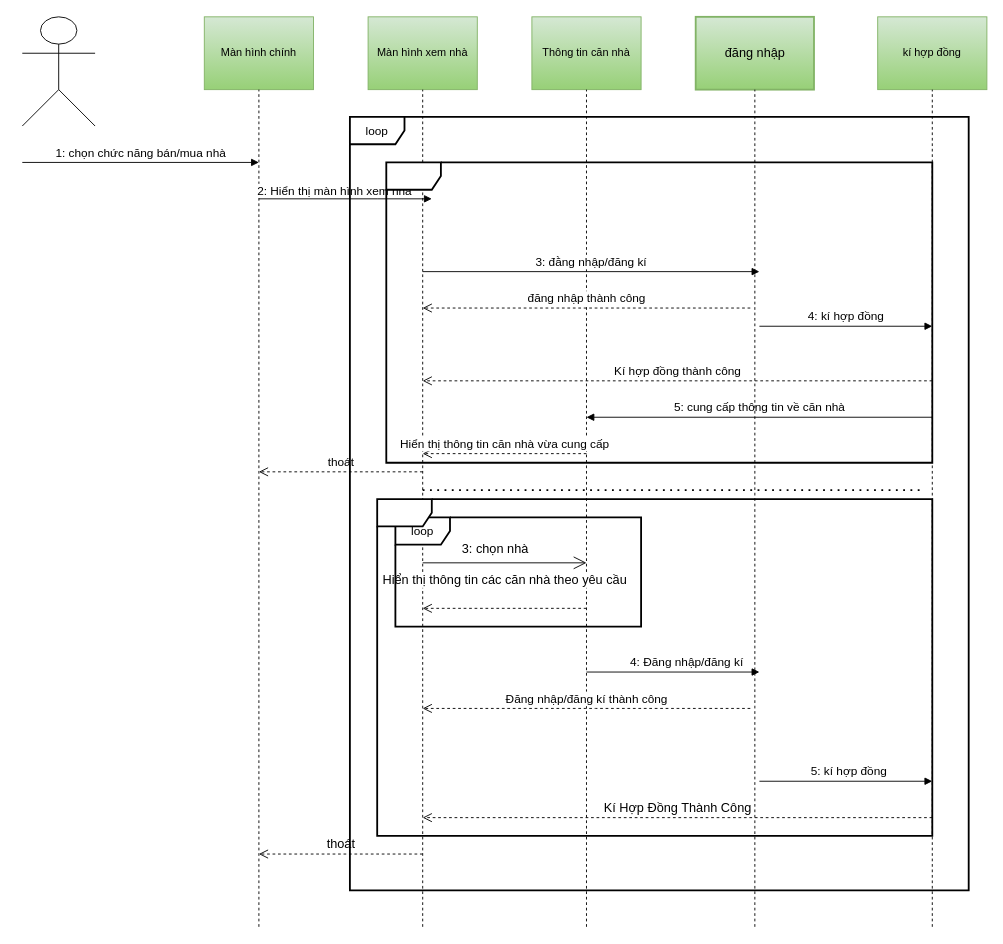
Some shapes in this 1003 by 944 pixel diagram are drawn without their labels. The box of each missing label's shape, as (x1, y1, x2, y2) in pixels:
Actor: (21, 16, 95, 126)
strict: (385, 161, 933, 463)
trict: (376, 498, 933, 836)
